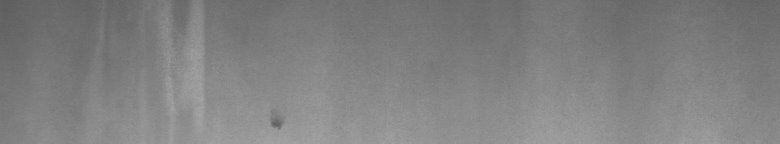fi: (268, 118, 285, 136)
